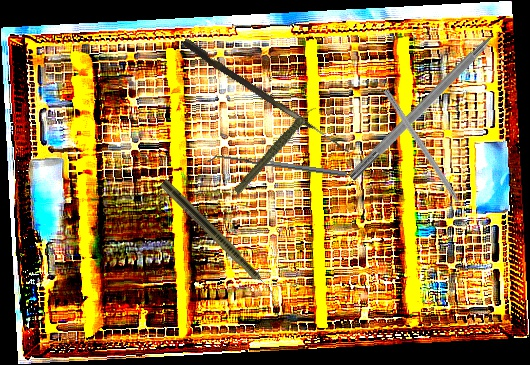Chopper: (376, 88, 472, 226)
Handpiece: (158, 178, 282, 303), (220, 105, 333, 196)
Hook Surgical: (347, 14, 517, 183), (180, 37, 356, 155)
Spatula Surgical: (206, 152, 348, 182)
